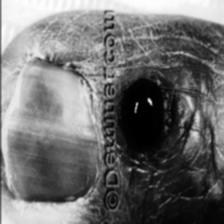Toxin: (121, 79, 162, 150)
